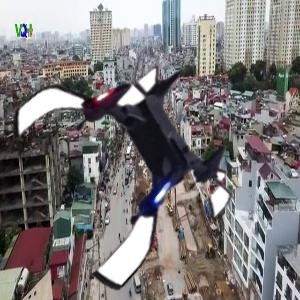drone: (5, 43, 238, 276)
